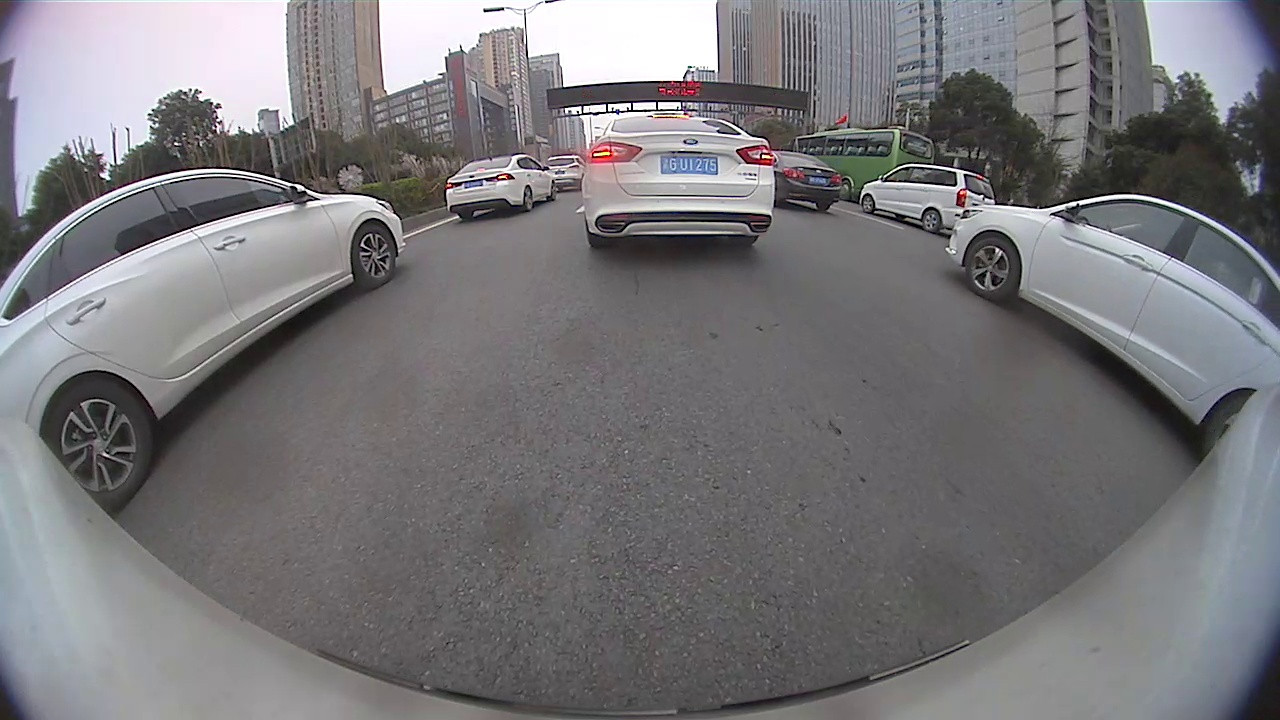bus: (780, 126, 935, 202)
car: (1, 166, 408, 519), (946, 193, 1279, 461), (581, 112, 776, 248), (860, 163, 996, 232), (445, 153, 557, 220), (770, 150, 842, 212), (544, 155, 587, 191)
front: (964, 236, 1019, 301), (350, 223, 397, 292), (860, 194, 876, 215)
rear: (37, 376, 152, 519), (921, 208, 940, 232), (523, 186, 532, 211)
